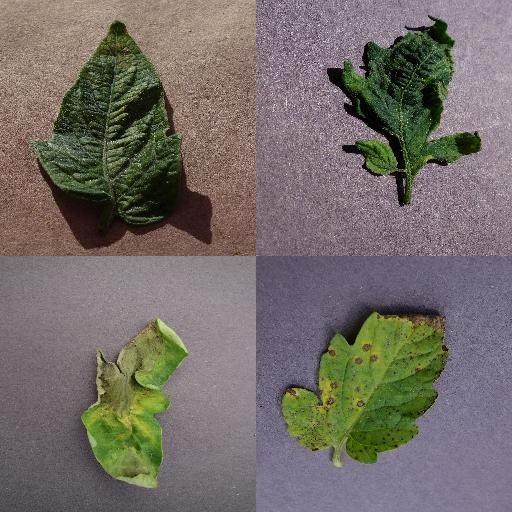Late Blight: (81, 317, 189, 489)
Mosaic Virus: (342, 13, 482, 177)
Septoria: (282, 311, 450, 461)
Spider Mites: (34, 21, 184, 227)
